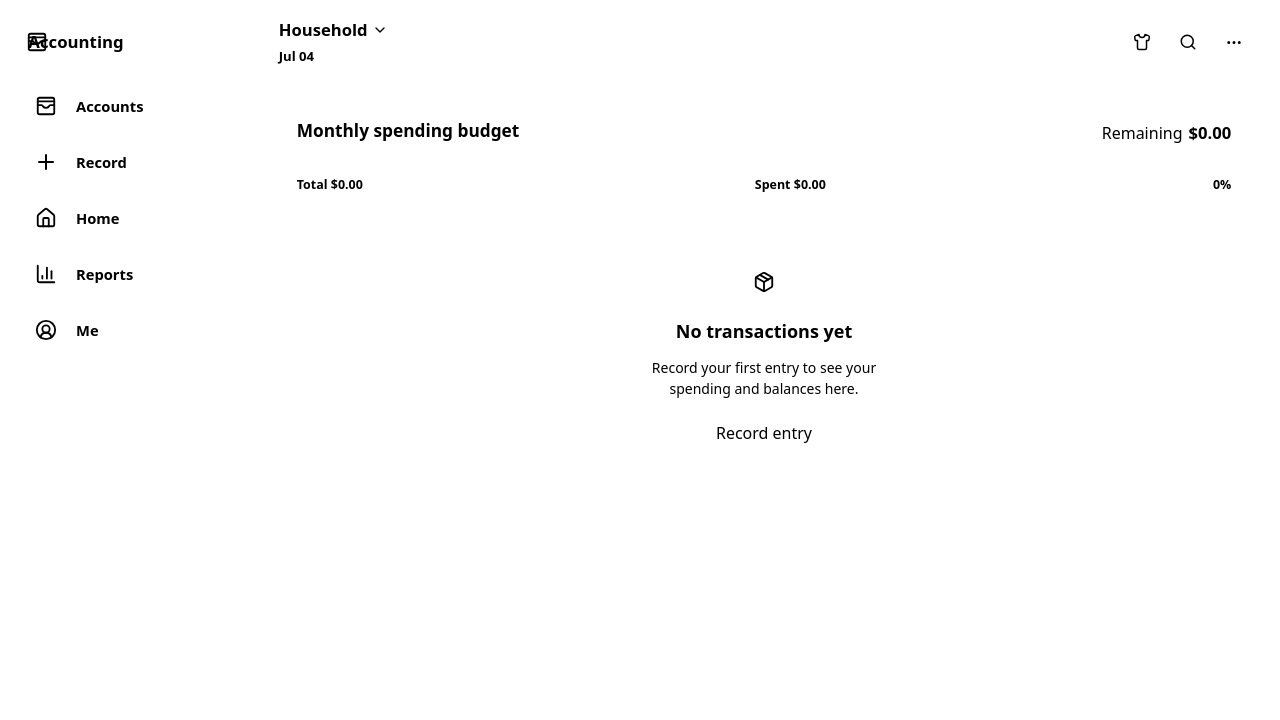
Test: App › opens the reports tab with existing report drilldowns
What coordinates should you click on to do the following:
click the button "Reports"
I would click on:
 (124, 274)
Its box is [14,248,234,300].
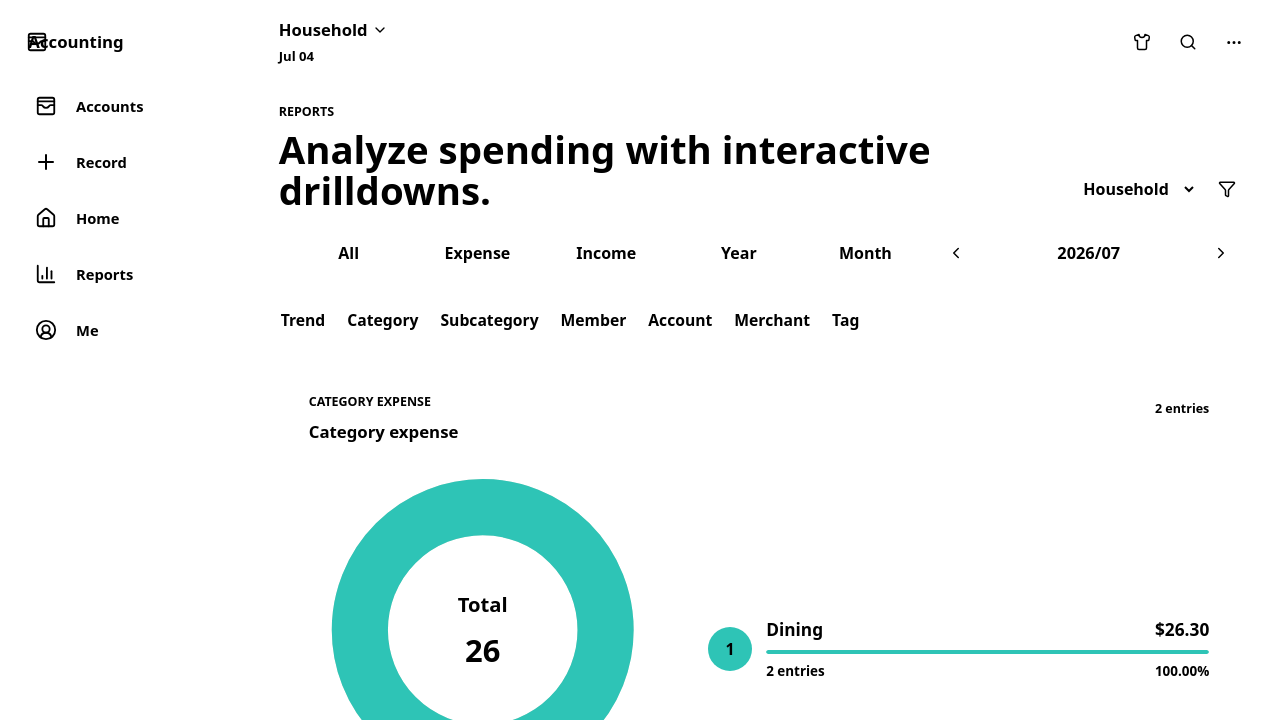
expect the heading "Category expense" is shown: met, box [309,420,458,445]
expect the text "Dining" is shown: met, box [766,618,823,641]
